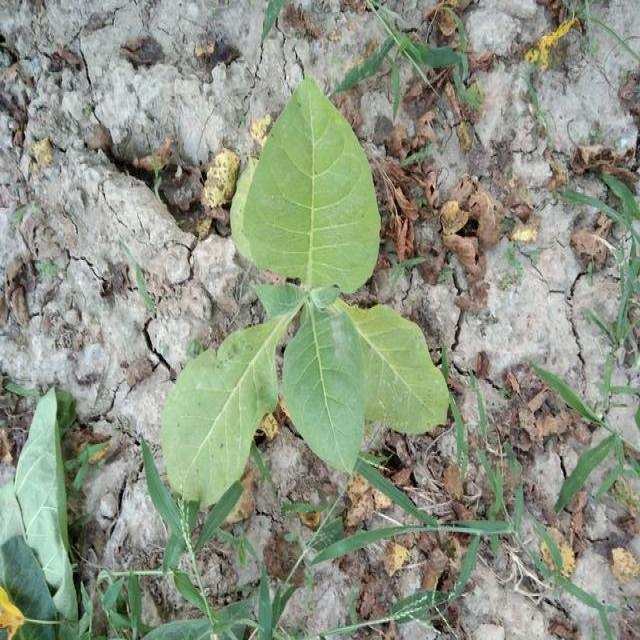crop: (176, 81, 446, 506)
